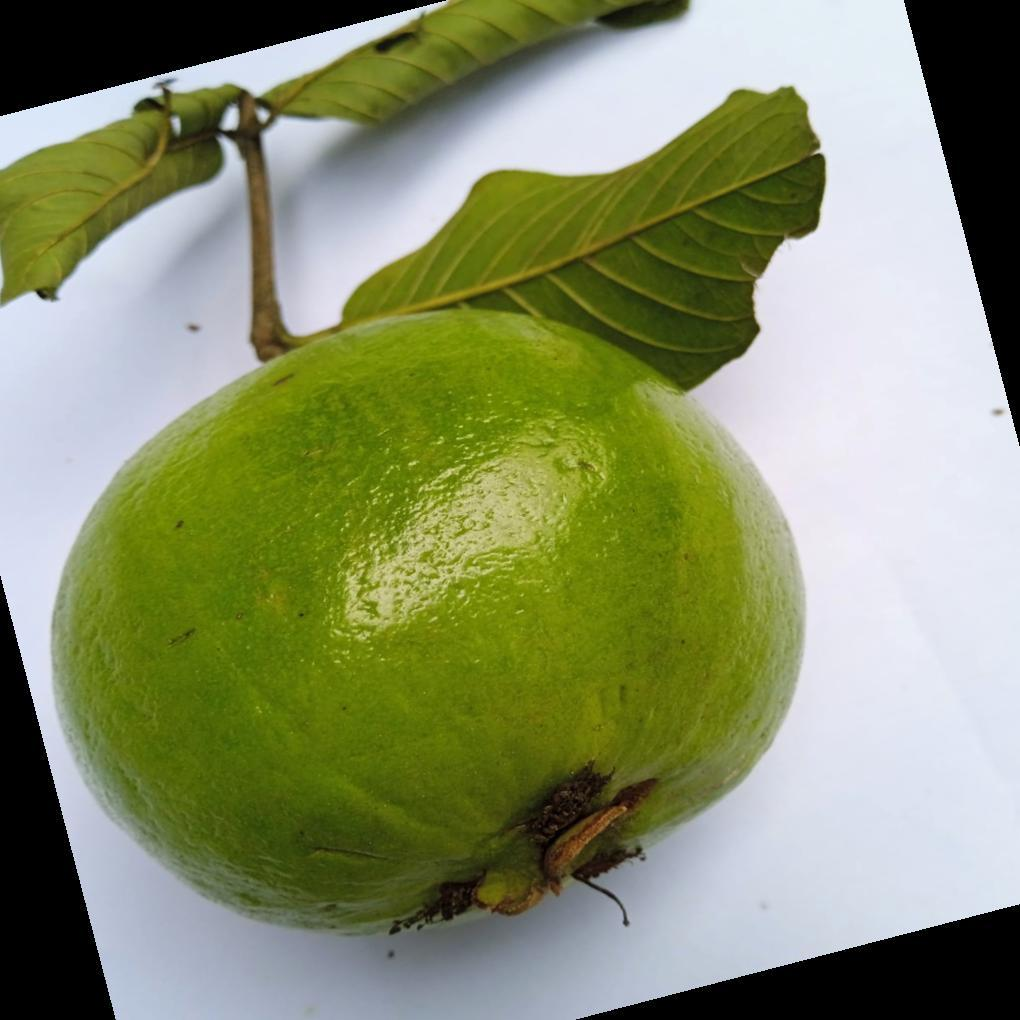FreshGuava: (49, 86, 829, 939)
